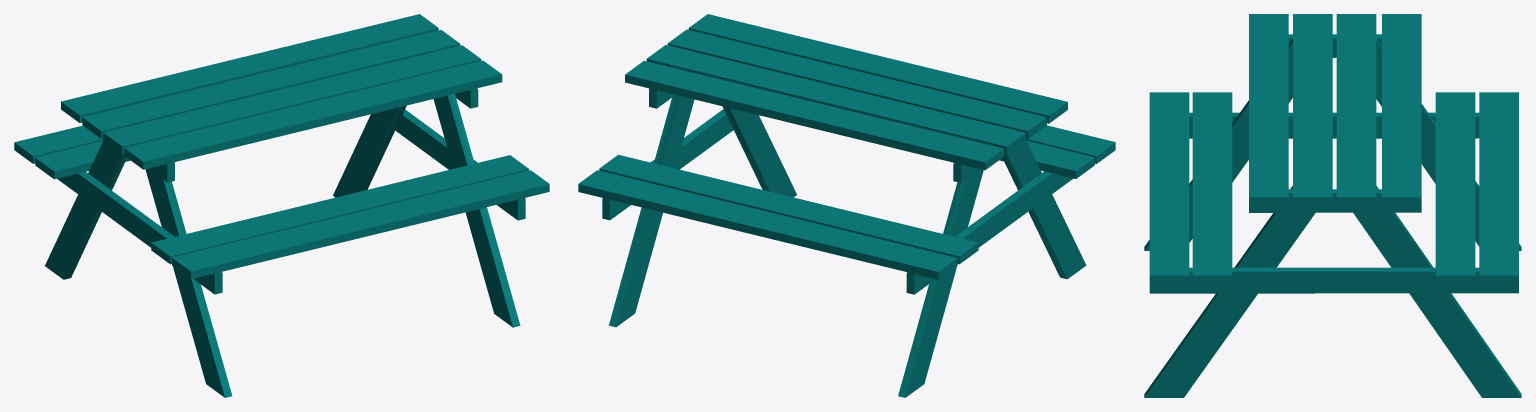
Rendered from Table.fbx.
3 views of the same model, side by side, from view 1: azimuth 30°, elevation 25°; view 2: azimuth 150°, elevation 25°; view 3: azimuth 270°, elevation 25° (orthographic). The views are drawn at different scales.
Parts seen in each view (by area): view 1: Table; view 2: Table; view 3: Table.
Part boxes in pixels (bbox=[...]): Table: bbox=[14, 14, 549, 397]; Table: bbox=[578, 14, 1115, 397]; Table: bbox=[1144, 14, 1521, 397].
Bounding box in the file's own units: 1.28 × 0.7071 × 1.12.
